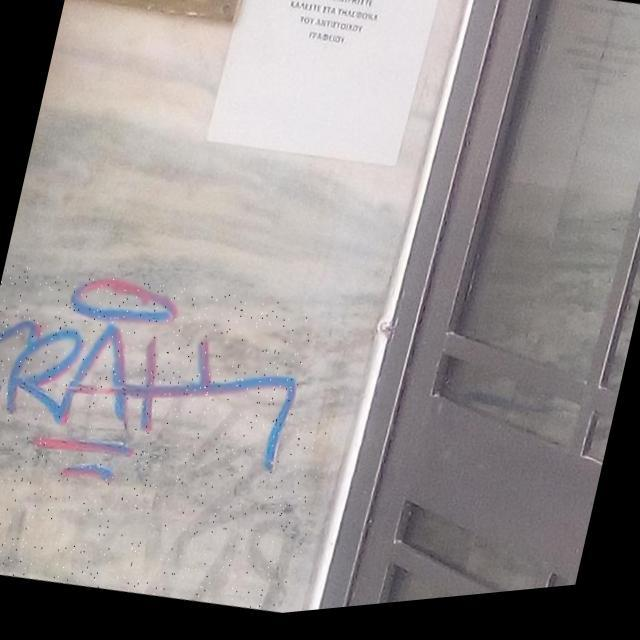-: (0, 344, 333, 640), (0, 238, 318, 533)
